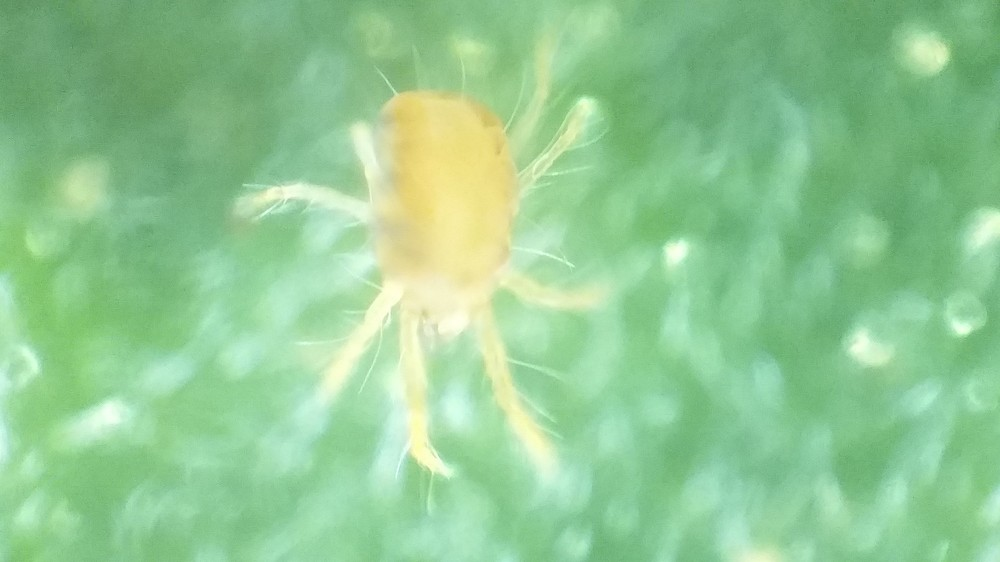Aracnido Rojo: (242, 29, 650, 486)
